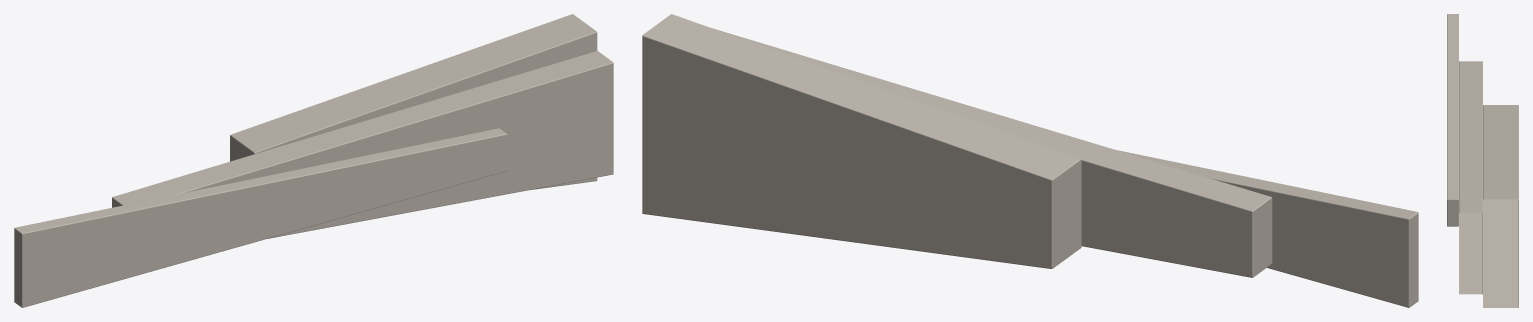
The model's file is hands.glb.
The picture shows the model from 3 angles, left to right: view 1: azimuth 30°, elevation 25°; view 2: azimuth 150°, elevation 25°; view 3: azimuth 270°, elevation 25°; orthographic projection. The views are drawn at different scales.
Visible parts, largest first — view 1: seconds, minutes, hours; view 2: hours, minutes, seconds; view 3: hours, minutes, seconds.
Part boxes in pixels (x1,y1,x2,y2): seconds: (14, 128, 507, 307); minutes: (112, 51, 613, 238); hours: (230, 14, 597, 189); hours: (642, 14, 1081, 268); minutes: (714, 29, 1272, 277); seconds: (1116, 150, 1418, 307); hours: (1483, 105, 1518, 307); minutes: (1459, 61, 1482, 294); seconds: (1447, 14, 1458, 226).
Size of the model in its own units: 0.84 by 0.2 by 0.12.
1 material, 1 textured.
